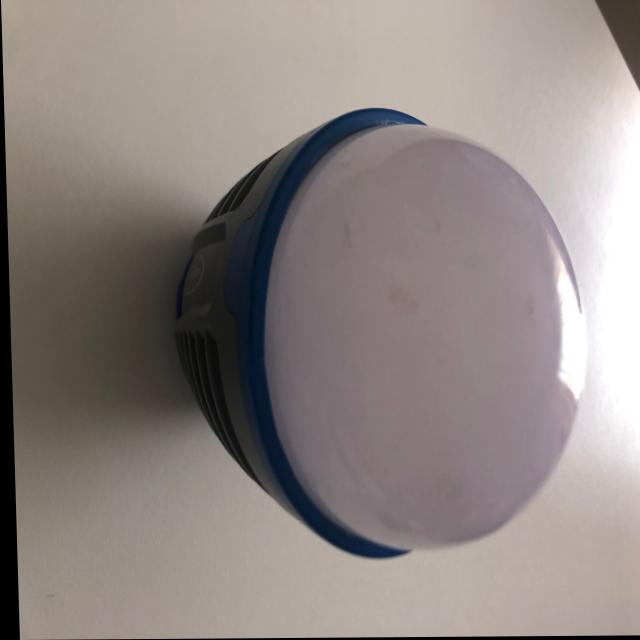Mosquito Killer: (165, 105, 592, 562)
